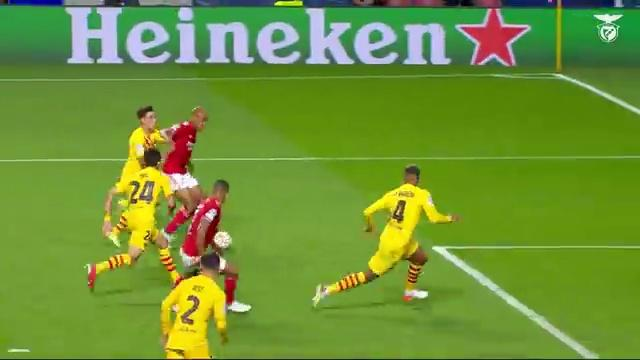football: (213, 231, 232, 249)
player: (313, 165, 457, 305), (87, 148, 179, 289), (161, 253, 227, 358), (160, 106, 207, 239), (180, 179, 229, 272), (116, 106, 165, 186)
